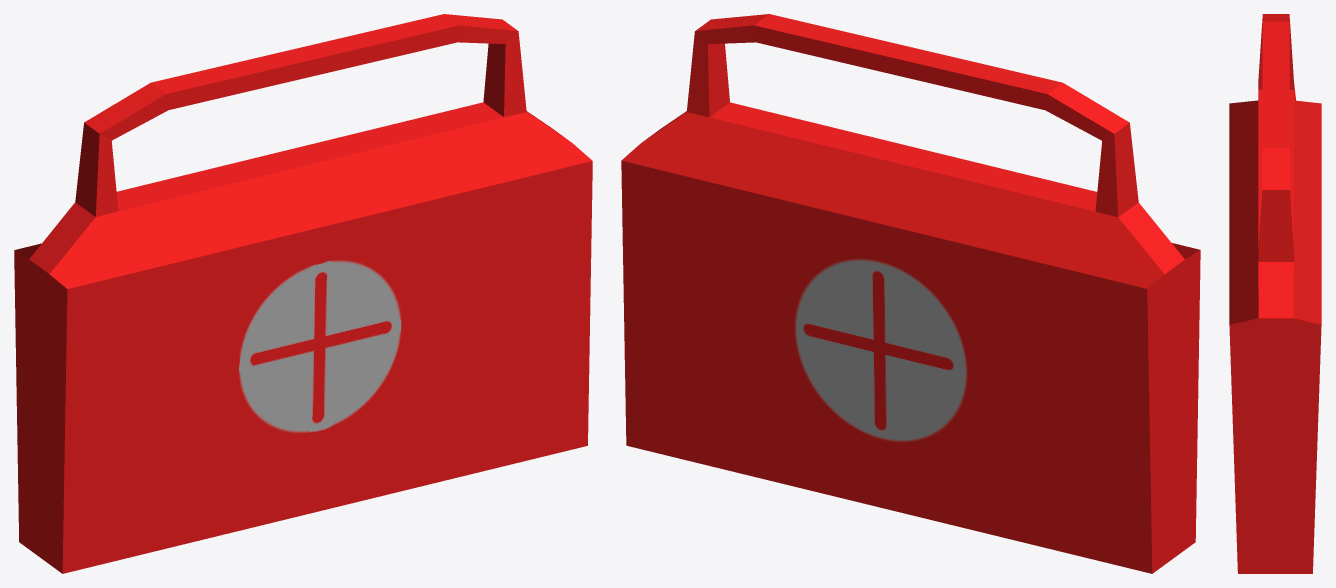
File: FirstAidKitTexturized.fbx
3 renders of one model, left to right at view 1: azimuth 30°, elevation 25°; view 2: azimuth 150°, elevation 25°; view 3: azimuth 270°, elevation 25°, orthographic. The views are drawn at different scales.
Visible parts, largest first — view 1: Cube; view 2: Cube; view 3: Cube.
Boxes of the visible parts, x1,y1,x2,y2 form: Cube: [14, 14, 592, 573]; Cube: [621, 14, 1200, 573]; Cube: [1229, 14, 1321, 573].
Bounding box in the file's own units: 4.08 × 3.26 × 0.7156.
Materials: 1 (1 with a texture image).
